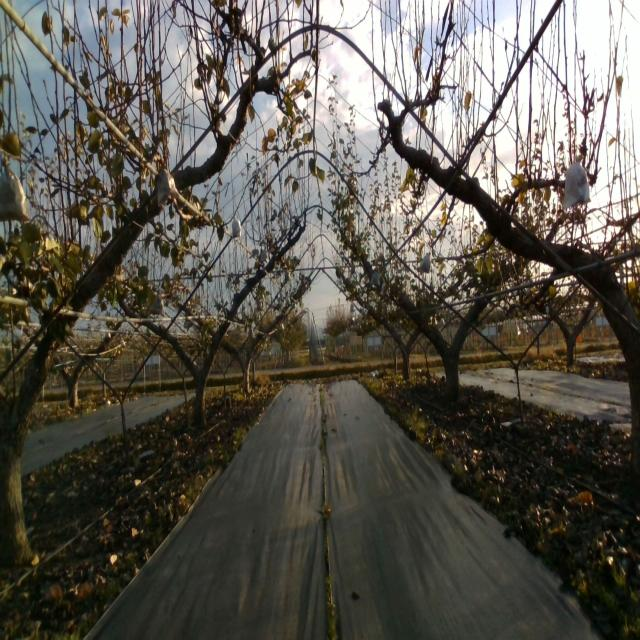pearbags: (0, 155, 30, 223), (563, 156, 591, 208), (156, 168, 178, 207), (420, 252, 431, 274), (232, 215, 242, 238)
